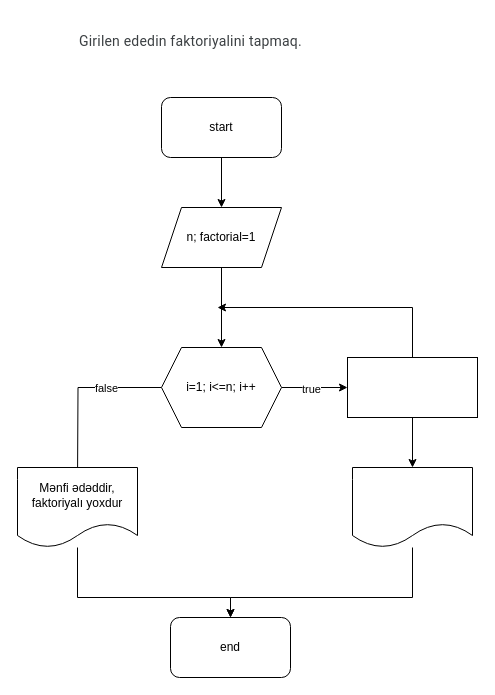
The diagram is 495 pixels wide and 695 high, and some of its shapes have lost their labels. The centre of each missing label's shape, as x and y in pixels:
"factorial" goes at (x=412, y=507).
"factorial= factorial * i" goes at (x=412, y=387).
